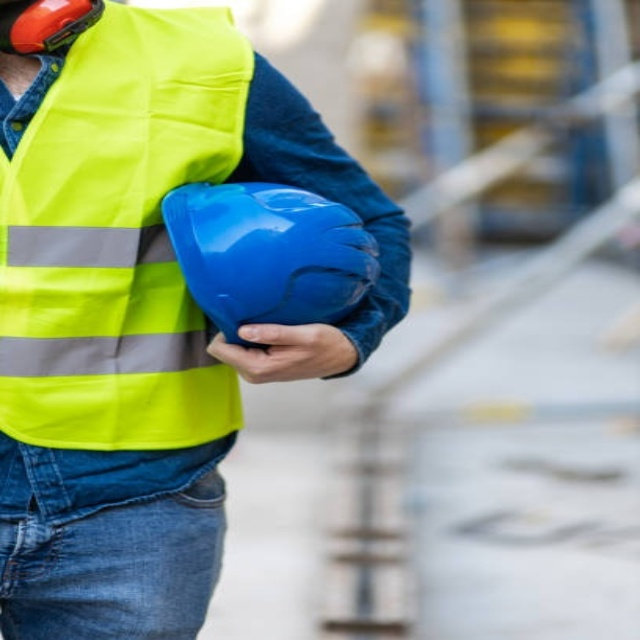Sin_guantes: (202, 320, 357, 384)
